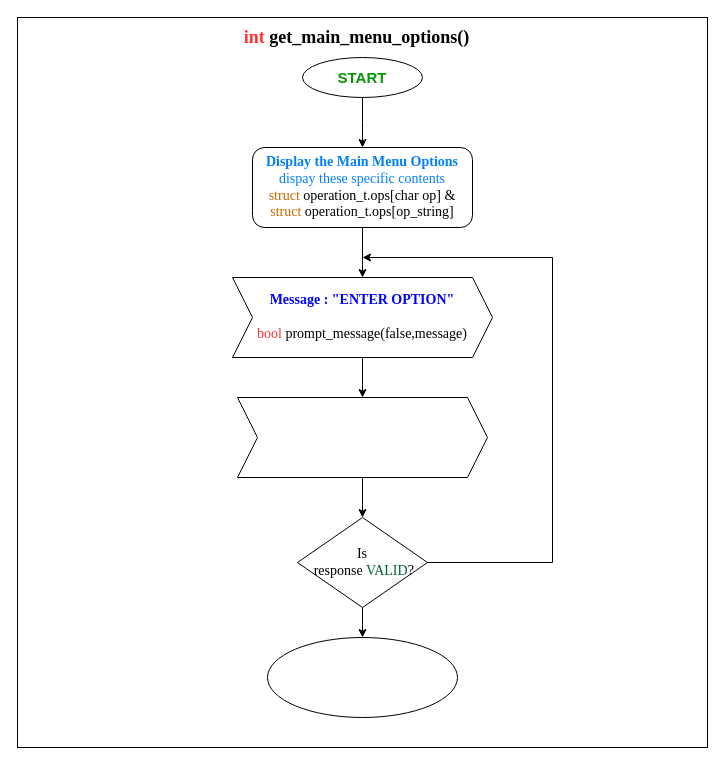
Image size: 725x765. Some labels were removed from this diagram. Each missing label, with the box of its shape:
Option: get the option from the user getchar (): (236, 396, 488, 478)
RETURN selection: (266, 636, 458, 718)
